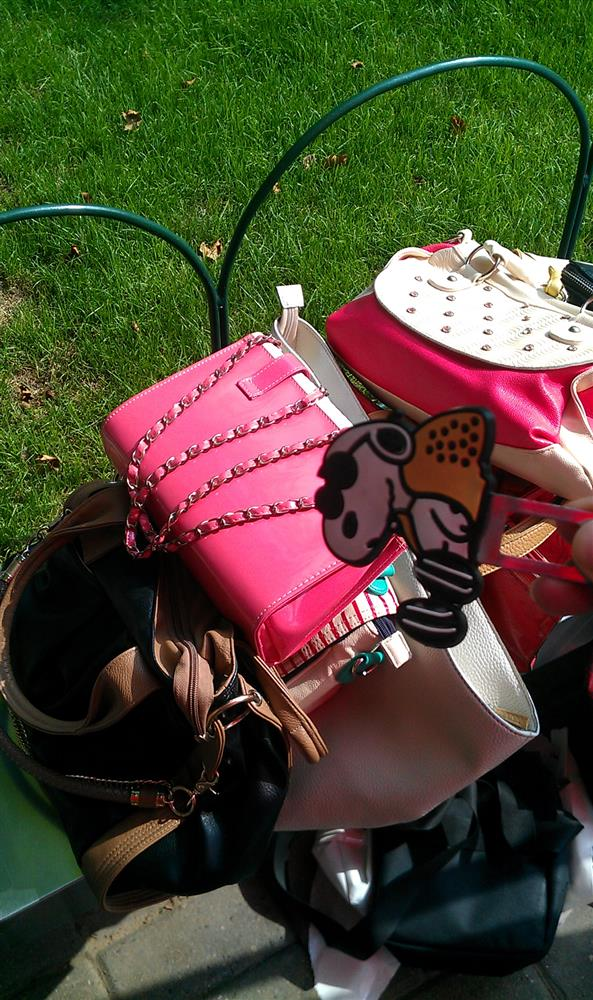DDog: (313, 384, 501, 661)
